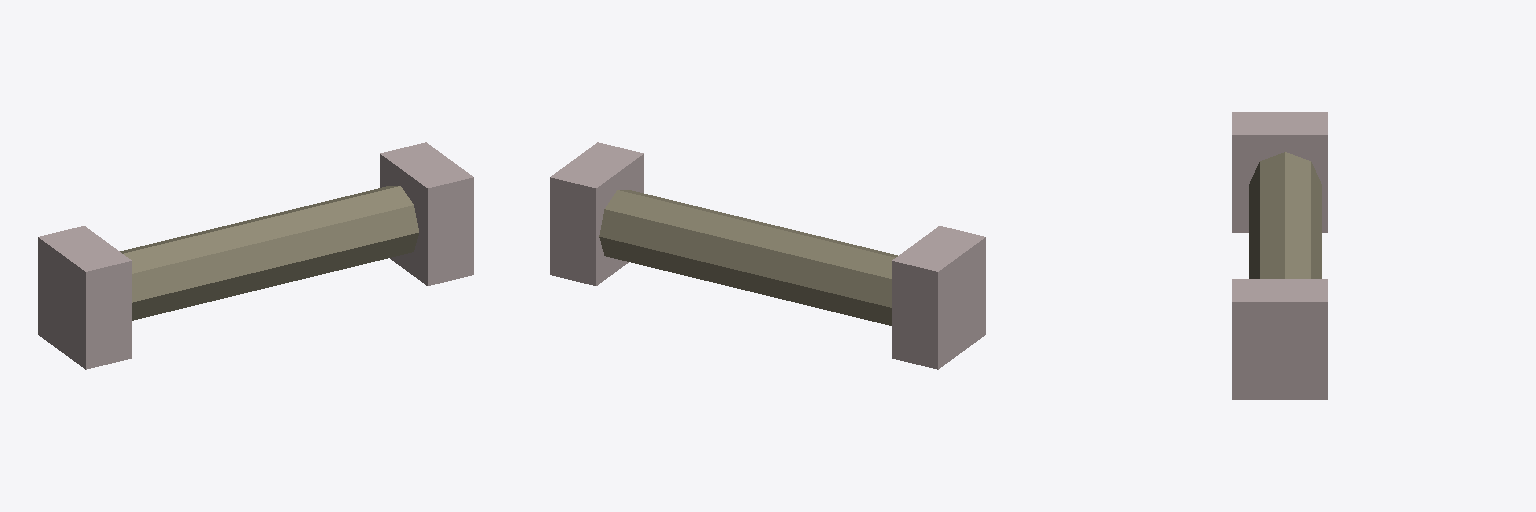
Rendered from Wall Light.obj.
3 renders of one model, left to right at view 1: azimuth 30°, elevation 25°; view 2: azimuth 150°, elevation 25°; view 3: azimuth 270°, elevation 25°, orthographic.
Visible parts, largest first — view 1: Wall Light; view 2: Wall Light; view 3: Wall Light.
Boxes of the visible parts, box(x1,y1,x2,y2) form: Wall Light: box(38, 142, 473, 369); Wall Light: box(550, 142, 985, 369); Wall Light: box(1232, 112, 1327, 399).
Bounding box in the file's own units: 0.6132 × 0.1476 × 0.131.